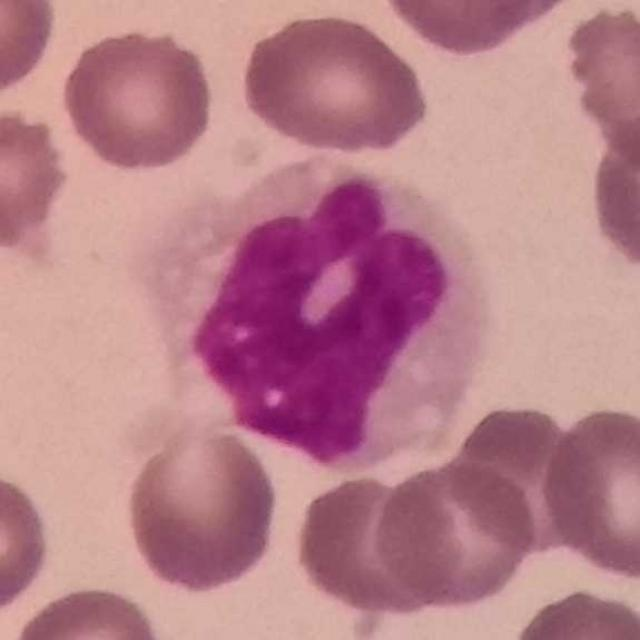Monocyte: (144, 150, 486, 476)
RBC: (120, 415, 283, 598), (236, 8, 433, 157), (369, 456, 541, 614), (290, 469, 456, 621), (57, 23, 219, 175), (445, 403, 580, 563), (536, 400, 640, 586), (558, 1, 640, 172), (0, 100, 75, 258), (374, 0, 571, 58), (6, 581, 169, 640), (584, 108, 640, 276), (0, 464, 56, 622), (507, 584, 640, 639), (0, 0, 61, 102)
